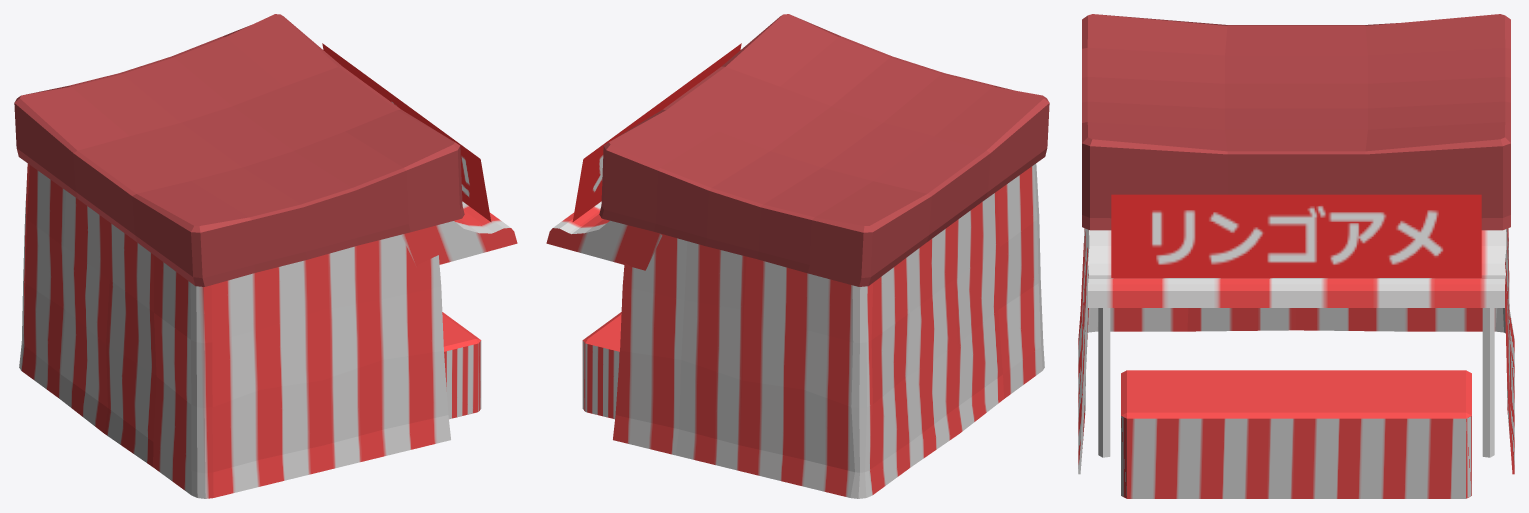
File: rowyatairingoame_1.fbx
3 views of the same model, side by side, from view 1: azimuth 30°, elevation 25°; view 2: azimuth 150°, elevation 25°; view 3: azimuth 270°, elevation 25° (orthographic). The views are drawn at different scales.
Parts seen in each view (by area): view 1: 立方体, Cube, Cube.001, 立方体.001, 平面; view 2: 立方体, Cube, Cube.001, 立方体.001, 平面; view 3: Cube, 立方体.001, 平面, Cube.001, 立方体, 円柱.
Boxes of the visible parts, left/top/right/bottom form: 立方体: left=19, top=163, right=450, bottom=498; Cube: left=14, top=14, right=464, bottom=286; Cube.001: left=401, top=201, right=517, bottom=267; 立方体.001: left=442, top=312, right=481, bottom=419; 平面: left=322, top=43, right=491, bottom=221; 立方体: left=613, top=163, right=1044, bottom=498; Cube: left=599, top=14, right=1049, bottom=286; Cube.001: left=546, top=201, right=662, bottom=270; 立方体.001: left=582, top=312, right=621, bottom=419; 平面: left=572, top=43, right=741, bottom=221; Cube: left=1082, top=14, right=1510, bottom=230; 立方体.001: left=1121, top=370, right=1471, bottom=498; 平面: left=1111, top=194, right=1481, bottom=277; Cube.001: left=1088, top=229, right=1506, bottom=307; 立方体: left=1078, top=228, right=1514, bottom=474; 円柱: left=1098, top=308, right=1494, bottom=457.
Size of the model in its own units: 133 by 114 by 132.
Materials: 2 (2 with a texture image).
